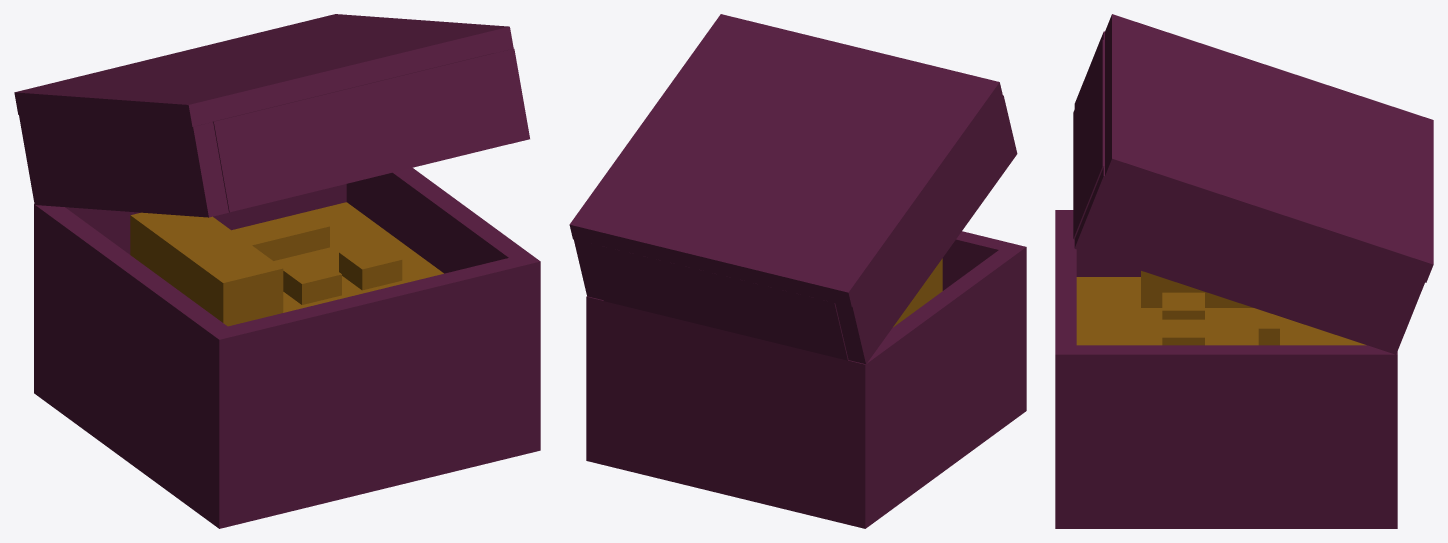
Rendered from CurseMusicBox.fbx.
The picture shows the model from 3 angles, left to right: view 1: azimuth 30°, elevation 25°; view 2: azimuth 150°, elevation 25°; view 3: azimuth 270°, elevation 25°; orthographic projection. The views are drawn at different scales.
Visible parts, largest first — view 1: Cube.001, Cube.012, Cube.011, Cube.013, Cube.015, Cube.014; view 2: Cube.001, Cube.012; view 3: Cube.001, Cube.011, Cube.012, Cube.014, Cube.015, Cube.013.
Part boxes in pixels (<box>): Cube.001: <box>14,14,540,528</box>; Cube.012: <box>130,212,283,326</box>; Cube.011: <box>231,202,443,312</box>; Cube.013: <box>241,218,329,260</box>; Cube.015: <box>339,243,402,290</box>; Cube.014: <box>281,257,341,304</box>; Cube.001: <box>569,14,1026,528</box>; Cube.012: <box>893,258,942,327</box>; Cube.001: <box>1055,14,1433,528</box>; Cube.011: <box>1076,277,1366,345</box>; Cube.012: <box>1141,271,1253,307</box>; Cube.014: <box>1162,292,1204,319</box>; Cube.015: <box>1162,319,1204,345</box>; Cube.013: <box>1258,309,1279,345</box>.
Size of the model in its own units: 160 by 191 by 177.
